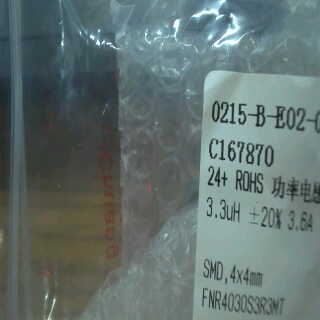3.3uH: (202, 192, 243, 230)
